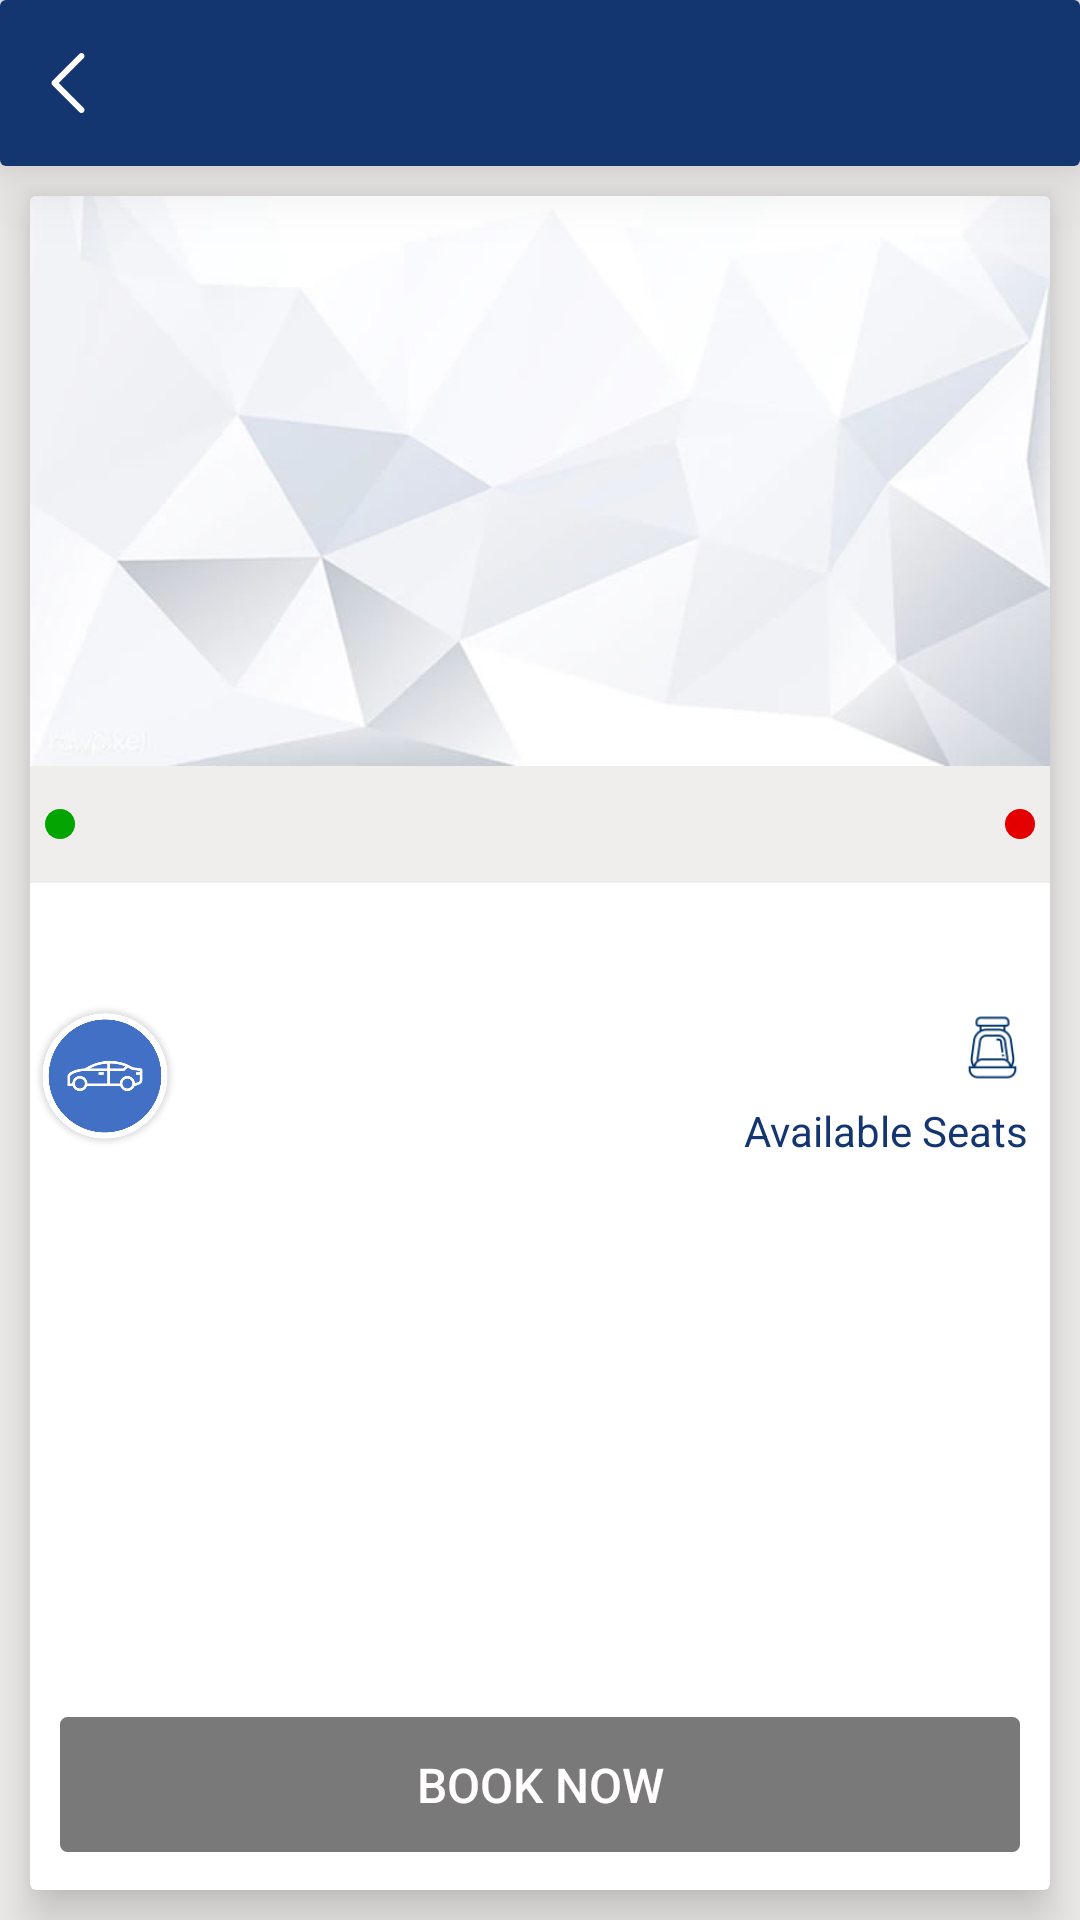

Icon bounding boxes for this 1080*1920 phone screenshot, format (x1, y1, x2, y2):
book cab: (42, 1012, 168, 1140)
